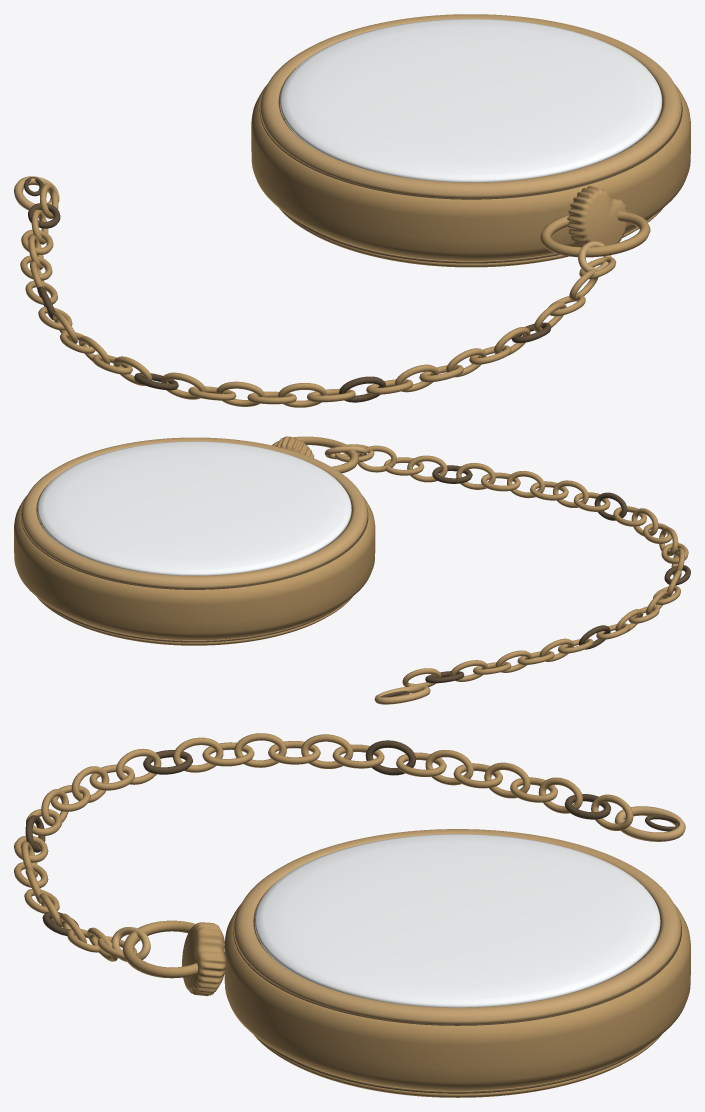
The model's file is EvidenceWatch.fbx.
The picture shows the model from 3 angles, top to bottom: view 1: azimuth 30°, elevation 25°; view 2: azimuth 150°, elevation 25°; view 3: azimuth 270°, elevation 25°; orthographic projection. The views are drawn at different scales.
Visible parts, largest first — view 1: Domed mineral crystal, SatinBrass, PolishedBrass, Patina, Engraved spun dust cover; view 2: Domed mineral crystal, SatinBrass, PolishedBrass, Patina, Engraved spun dust cover; view 3: Domed mineral crystal, SatinBrass, PolishedBrass, Patina, Engraved spun dust cover.
Part boxes in pixels (x1,y1,x2,y2): Domed mineral crystal: [280, 19, 662, 182]; SatinBrass: [20, 84, 690, 407]; PolishedBrass: [14, 14, 682, 272]; Patina: [23, 65, 682, 402]; Engraved spun dust cover: [278, 207, 663, 267]; Domed mineral crystal: [37, 441, 351, 575]; SatinBrass: [14, 436, 688, 686]; PolishedBrass: [21, 437, 430, 704]; Patina: [21, 465, 690, 697]; Engraved spun dust cover: [37, 597, 352, 645]; Domed mineral crystal: [255, 834, 660, 1007]; SatinBrass: [14, 733, 690, 1090]; PolishedBrass: [111, 806, 685, 1073]; Patina: [25, 740, 681, 1093]; Engraved spun dust cover: [253, 1034, 661, 1097].
Bounding box in the file's own units: 9.77 × 1.33 × 8.01.
